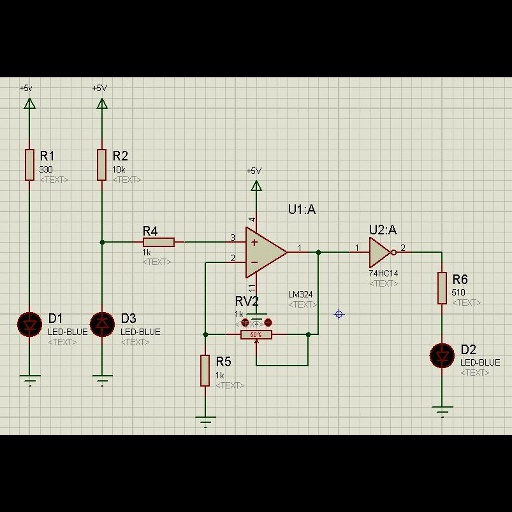amplifier: (239, 224, 291, 280)
firstresistance: (19, 146, 37, 185), (195, 351, 212, 390), (93, 147, 109, 186), (435, 270, 449, 308), (138, 236, 180, 248)
gnd: (14, 372, 49, 389), (426, 405, 462, 420), (88, 372, 118, 389), (193, 415, 220, 430), (245, 311, 268, 326)
